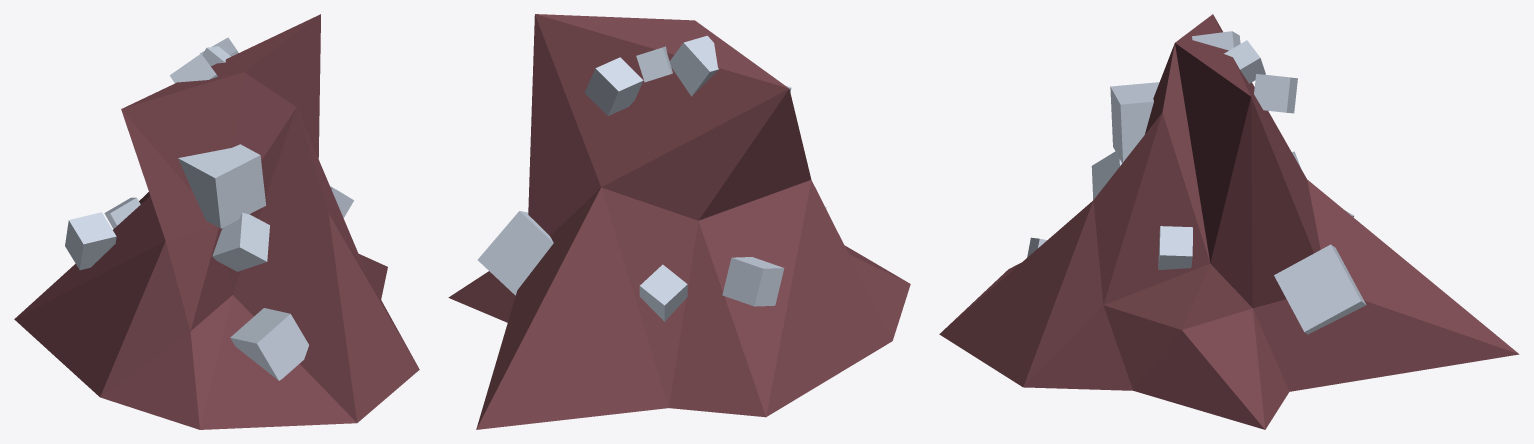
File: cubeore_7.fbx
The picture shows the model from 3 angles, left to right: view 1: azimuth 30°, elevation 25°; view 2: azimuth 150°, elevation 25°; view 3: azimuth 270°, elevation 25°; orthographic projection. The views are drawn at different scales.
Visible parts, largest first — view 1: Cube; view 2: Cube; view 3: Cube.
Part boxes in pixels (x1,y1,x2,y2): Cube: (14, 14, 419, 429); Cube: (448, 14, 910, 429); Cube: (939, 14, 1519, 429).
Bounding box in the file's own units: 275 × 208 × 370.
